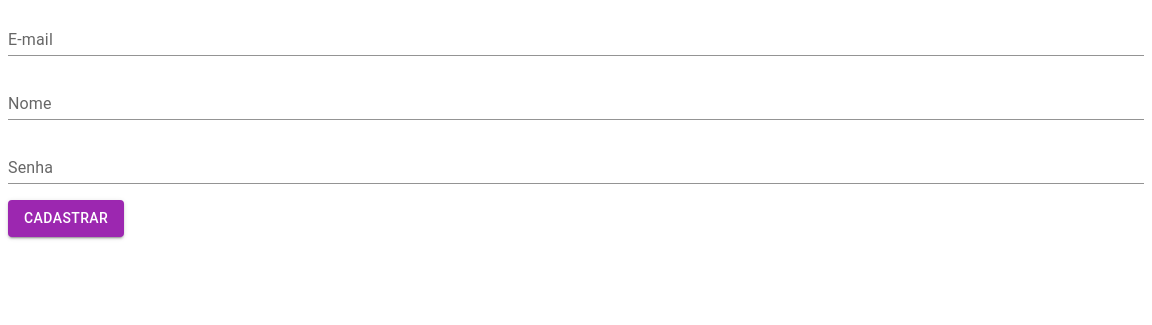
SignUpComponent › should render required errors
Click the button with test id "submit".
click(66, 218)  # box [8,200,124,236]
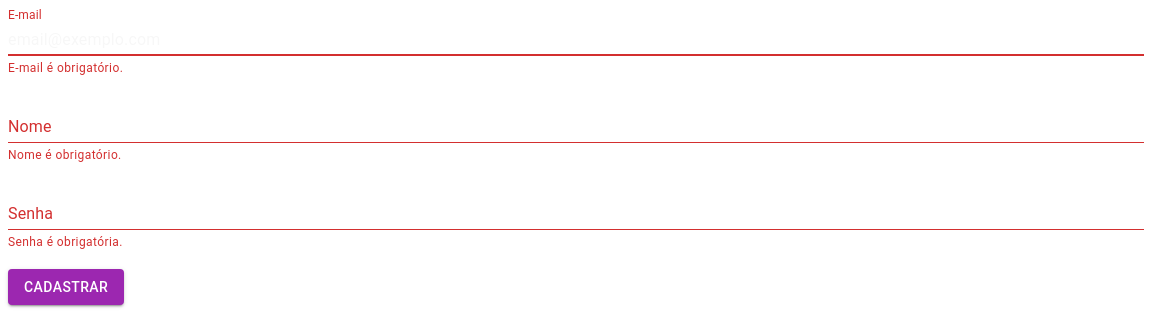
Now the text "E-mail é obrigatório." is shown, box [8,61,123,75]
Now the text "Senha é obrigatória." is shown, box [8,235,123,249]
Now the text "Nome é obrigatório." is shown, box [8,148,122,162]
